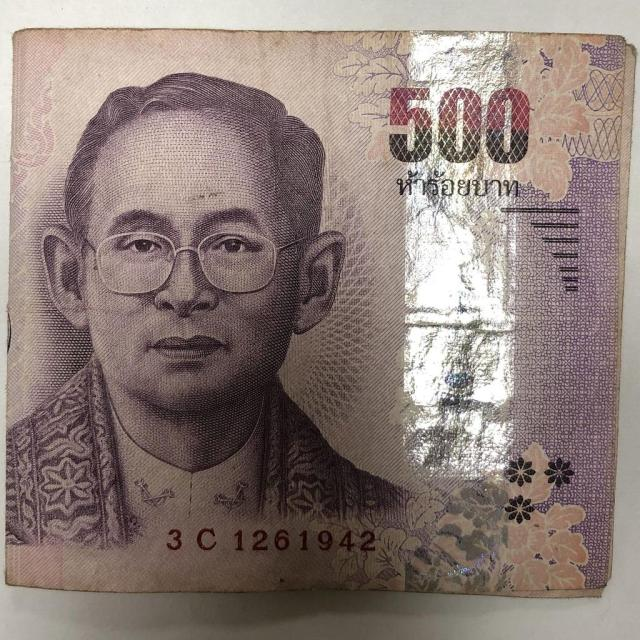THAI500: (0, 26, 639, 601)
